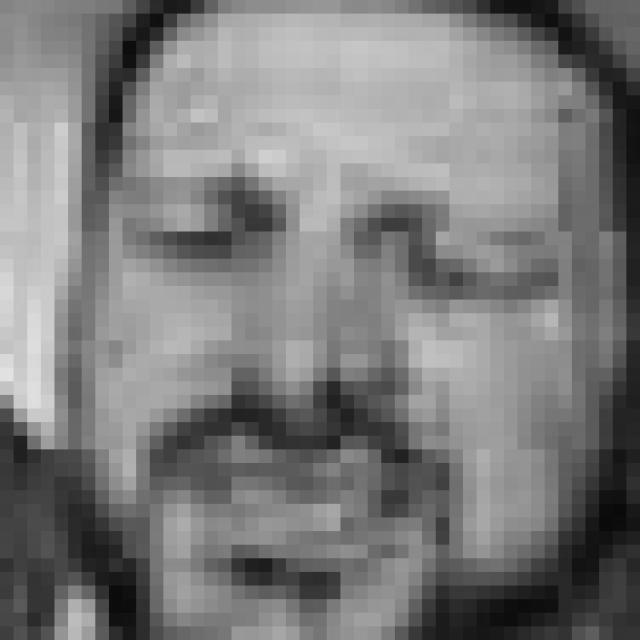real: (78, 0, 640, 640), (118, 177, 552, 317)
